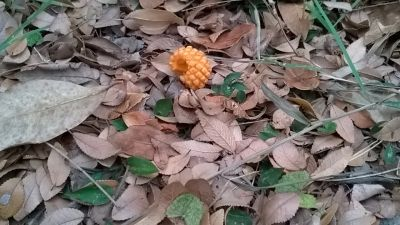eggs: (169, 46, 212, 88)
